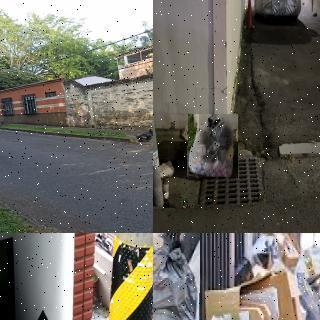Garbage: (153, 233, 199, 320), (188, 114, 238, 177), (135, 129, 153, 141)
